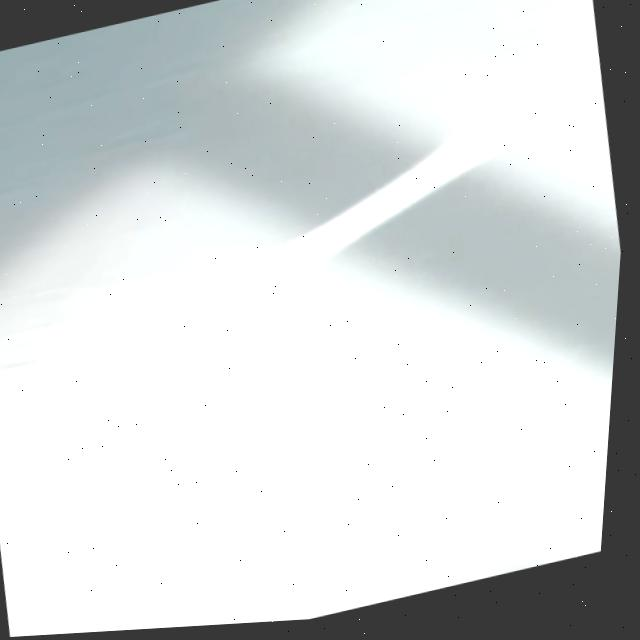center: (232, 55, 601, 283)
